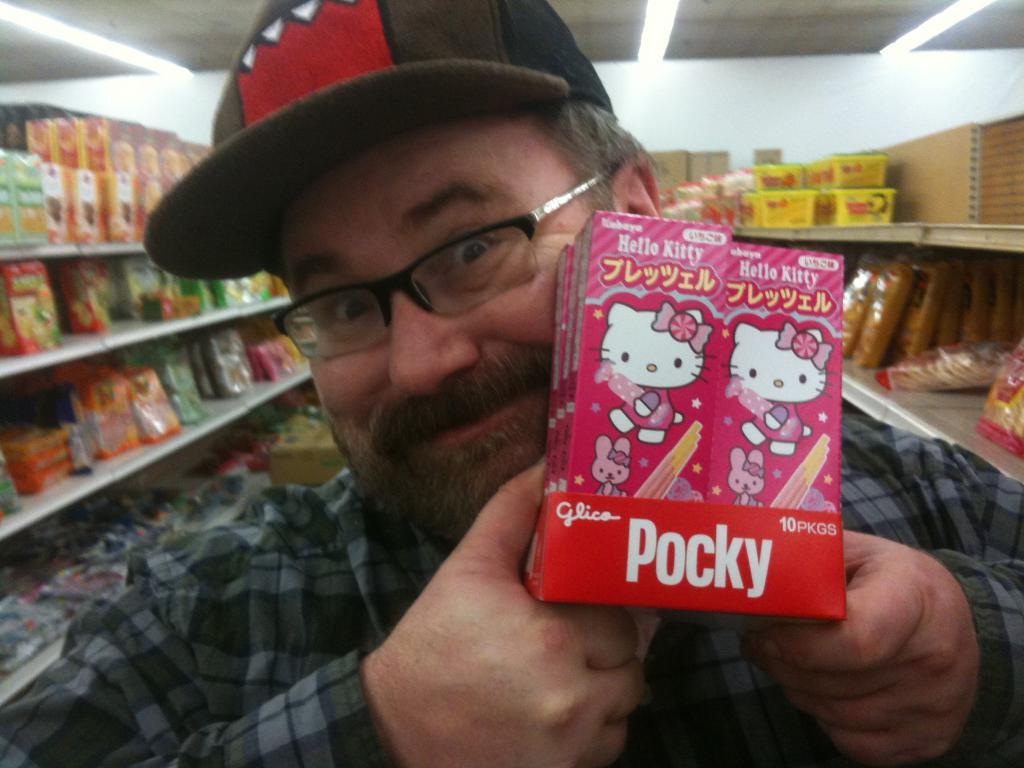Hat: (140, 0, 614, 280)
